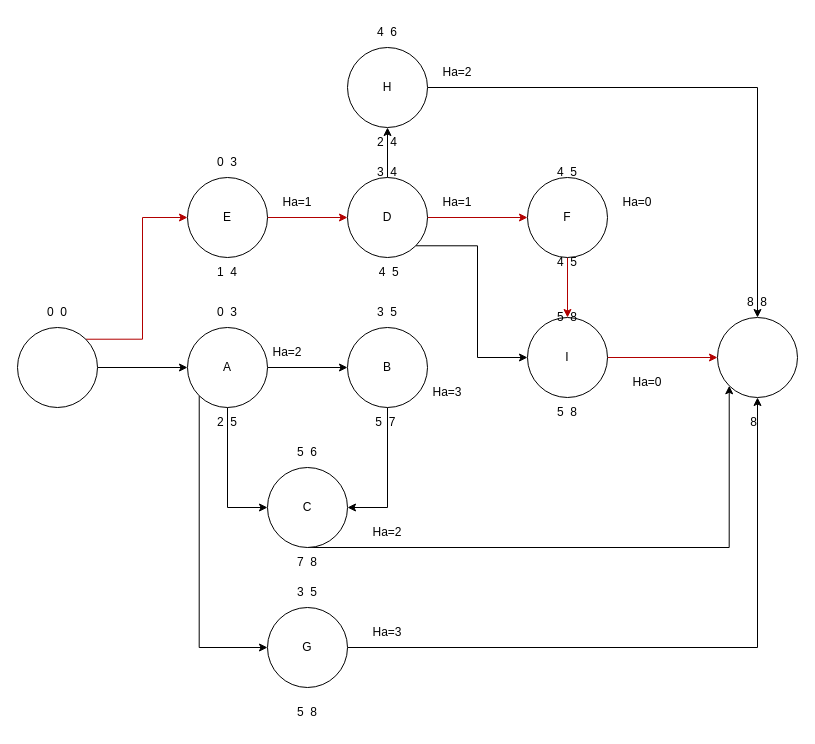
This 815x744 diagram has some shape labels left out. Here are the shapes that lost their labels. From the top down, the centre of each, then its label:
the point at 57,367: Inicio
the point at 757,357: Fin
